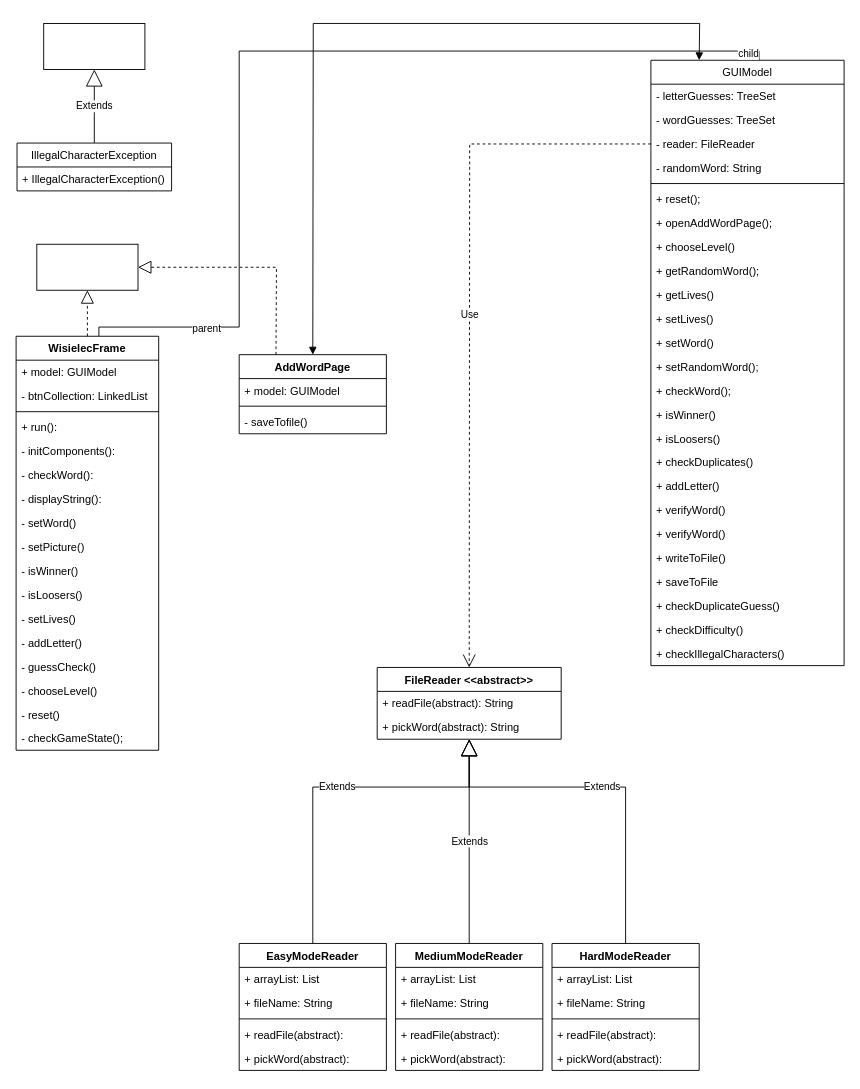
This 860x1089 diagram has some shape labels left out. The centre of each missing label's shape, as x and y in pixels:
"Exception" goes at (94,46).
"«interface» Runnable" goes at (87,266).
